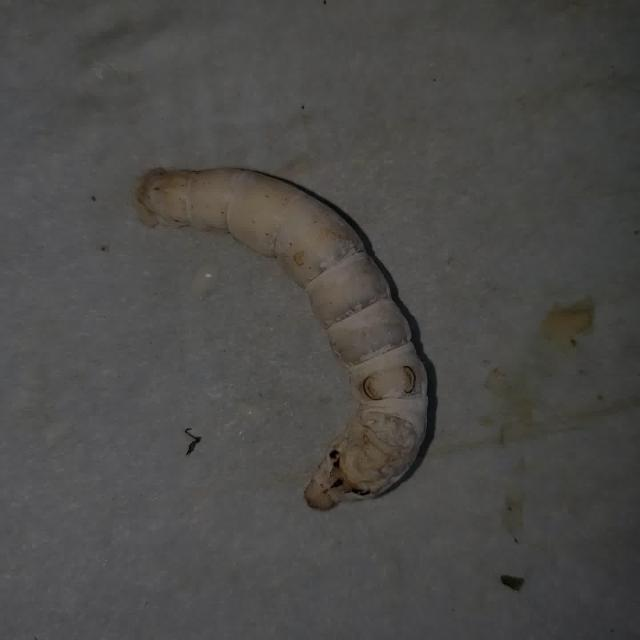Grasserie: (123, 141, 444, 512)
